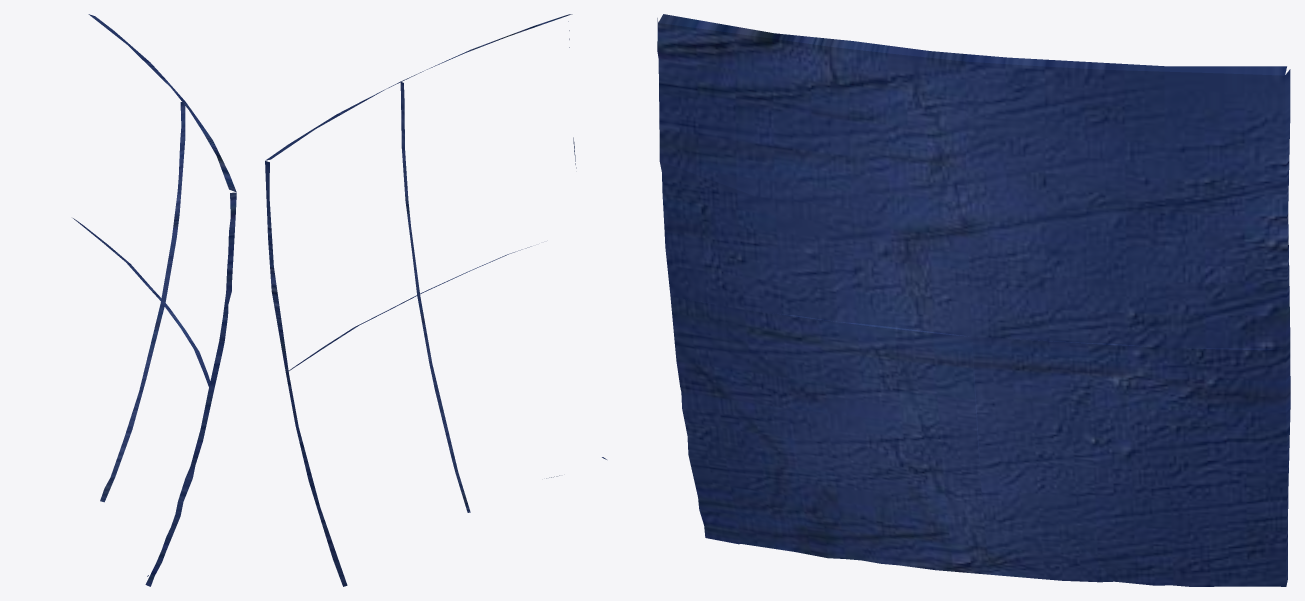
The picture shows the model from 3 angles, left to right: view 1: azimuth 30°, elevation 25°; view 2: azimuth 150°, elevation 25°; view 3: azimuth 270°, elevation 25°; orthographic projection. The views are drawn at different scales.
Bounding box in the file's own units: 973606 × 2456584 × 2469823.
Materials: 1 (1 with a texture image).
